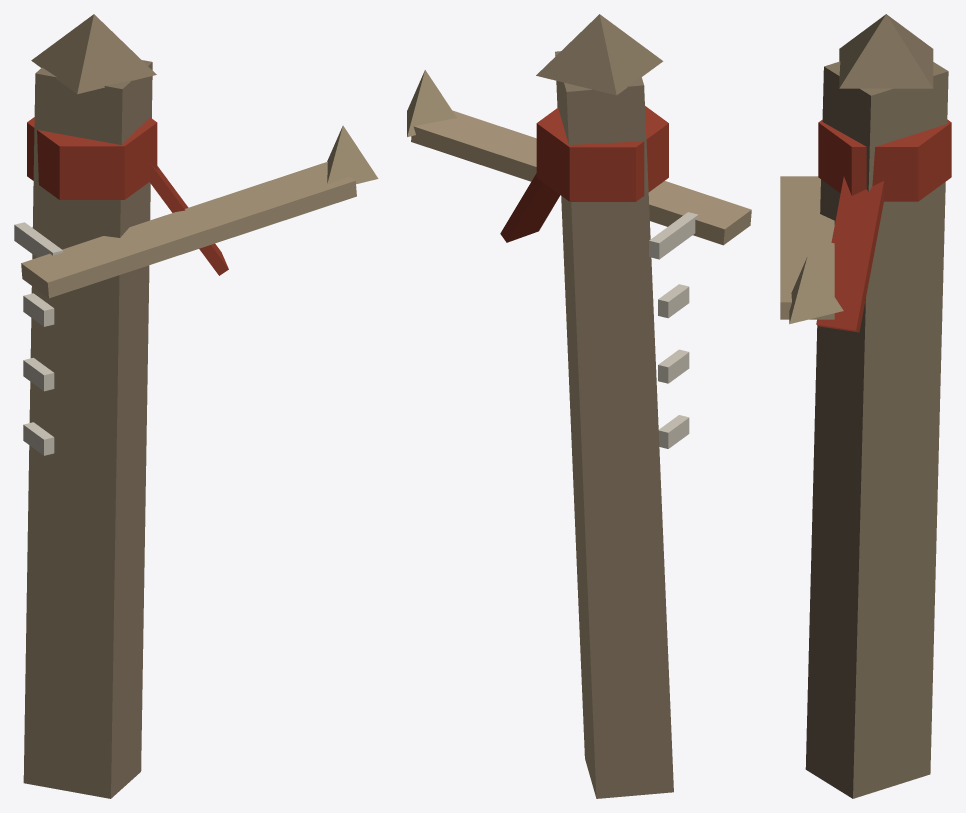
File: trail_stake.glb
3 views of the same model, side by side, from view 1: azimuth 30°, elevation 25°; view 2: azimuth 150°, elevation 25°; view 3: azimuth 270°, elevation 25° (orthographic). The views are drawn at different scales.
Parts seen in each view (by area): view 1: driftwood_d30, driftwood_d15, coal_d10, driftwood_d35, bone_d10; view 2: driftwood_d30, coal_d10, driftwood_d15, driftwood_d35, bone_d10; view 3: driftwood_d30, coal_d10, driftwood_d15, driftwood_d35.
Boxes of the visible parts, x1=… form: driftwood_d30: x1=23, y1=60, x2=152, y2=798; driftwood_d15: x1=21, y1=125, x2=378, y2=298; coal_d10: x1=27, y1=117, x2=228, y2=275; driftwood_d35: x1=31, y1=14, x2=156, y2=94; bone_d10: x1=14, y1=222, x2=63, y2=455; driftwood_d30: x1=555, y1=51, x2=673, y2=798; coal_d10: x1=500, y1=106, x2=668, y2=242; driftwood_d15: x1=407, y1=70, x2=751, y2=245; driftwood_d35: x1=536, y1=14, x2=663, y2=95; bone_d10: x1=649, y1=212, x2=698, y2=448; driftwood_d30: x1=805, y1=61, x2=948, y2=798; coal_d10: x1=816, y1=119, x2=951, y2=332; driftwood_d15: x1=780, y1=176, x2=843, y2=324; driftwood_d35: x1=839, y1=14, x2=933, y2=88.
Size of the model in its own units: 0.6532 by 1.4 by 0.283.
